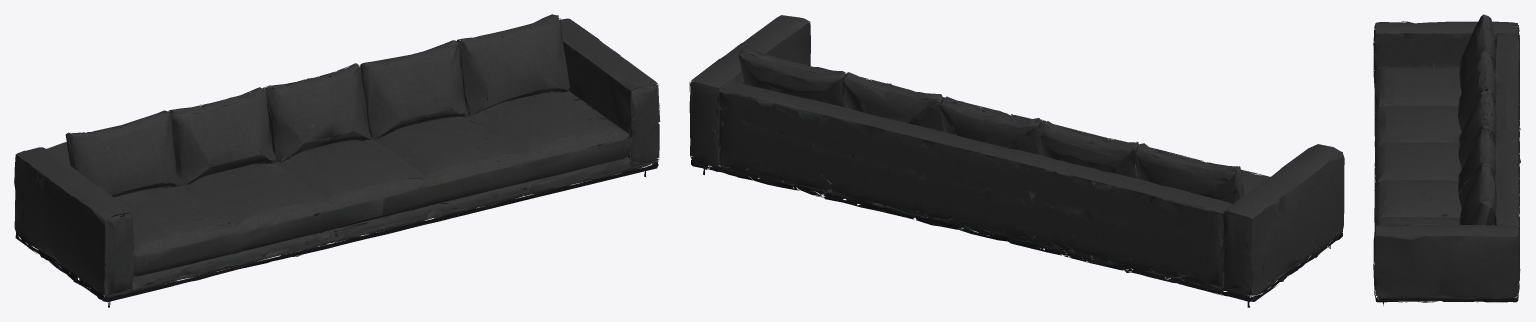
The model's file is PenthouseSofa.glb.
3 renders of one model, left to right at view 1: azimuth 30°, elevation 25°; view 2: azimuth 150°, elevation 25°; view 3: azimuth 270°, elevation 25°, orthographic. The views are drawn at different scales.
Visible parts, largest first — view 1: Penthouse-Sofa_00, Penthouse-Sofa_30, Penthouse-Sofa_10, Penthouse-Sofa_20; view 2: Penthouse-Sofa_00, Penthouse-Sofa_30, Penthouse-Sofa_10, Penthouse-Sofa_20; view 3: Penthouse-Sofa_30, Penthouse-Sofa_00, Penthouse-Sofa_20, Penthouse-Sofa_10.
Part boxes in pixels (x1,y1,x2,y2): Penthouse-Sofa_00: [14, 110, 242, 307]; Penthouse-Sofa_30: [451, 14, 660, 200]; Penthouse-Sofa_10: [169, 78, 382, 268]; Penthouse-Sofa_20: [309, 41, 522, 235]; Penthouse-Sofa_00: [1112, 141, 1344, 307]; Penthouse-Sofa_30: [689, 15, 913, 199]; Penthouse-Sofa_10: [970, 112, 1201, 268]; Penthouse-Sofa_20: [828, 73, 1058, 233]; Penthouse-Sofa_30: [1373, 163, 1520, 305]; Penthouse-Sofa_00: [1373, 14, 1519, 135]; Penthouse-Sofa_20: [1374, 112, 1519, 227]; Penthouse-Sofa_10: [1374, 55, 1520, 184].
Bounding box in the file's own units: 15.41 × 3.51 × 4.46.
Materials: 1 (1 with a texture image).
